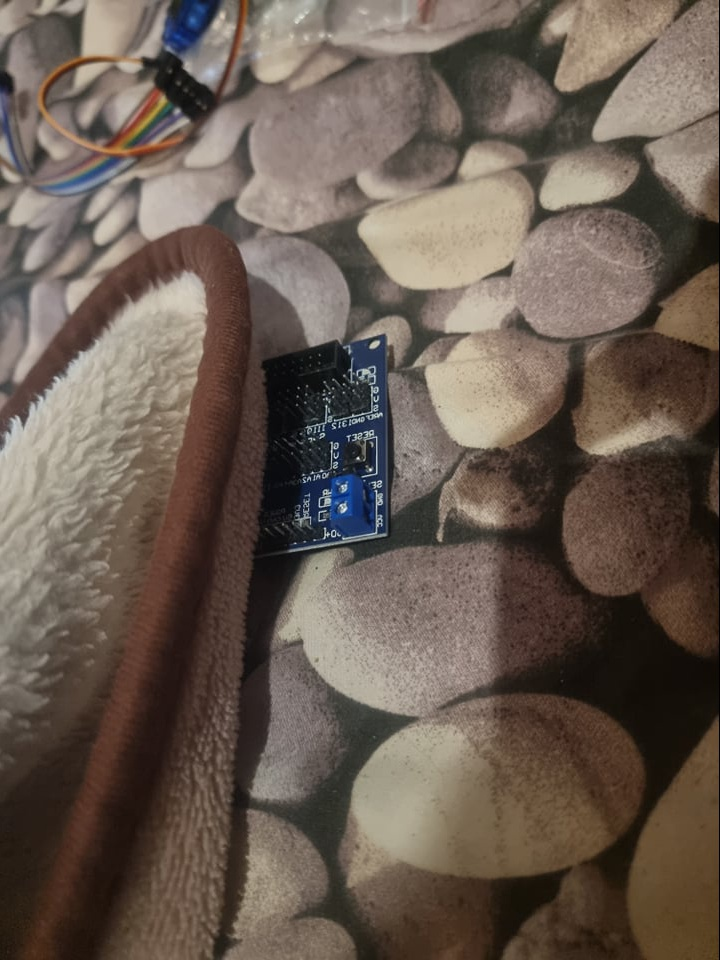5V EXPANSION: (256, 323, 393, 548)
